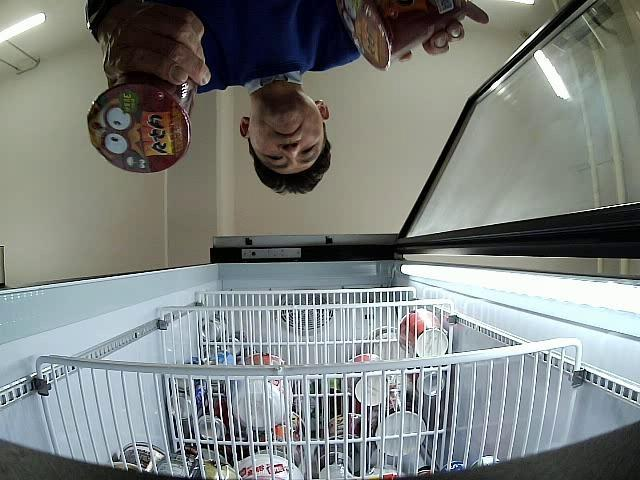06_nuguri_S: (86, 72, 200, 173), (338, 0, 468, 70)
